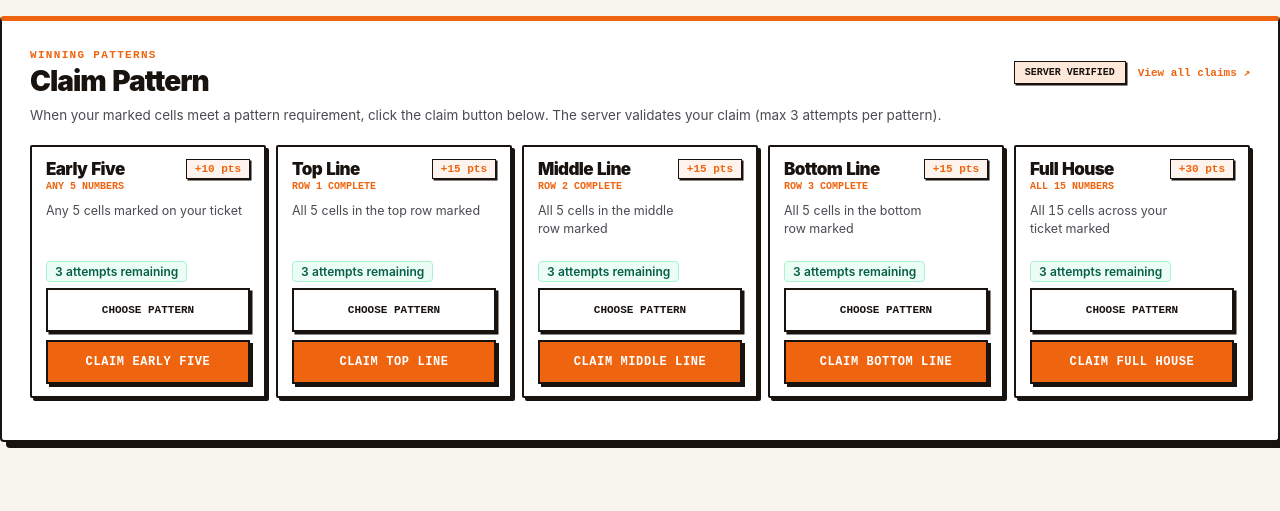
Test: participant claims › submits Middle Line directly
Click the button "Claim Middle Line". click: (640, 362)
box: [538,340,742,384]
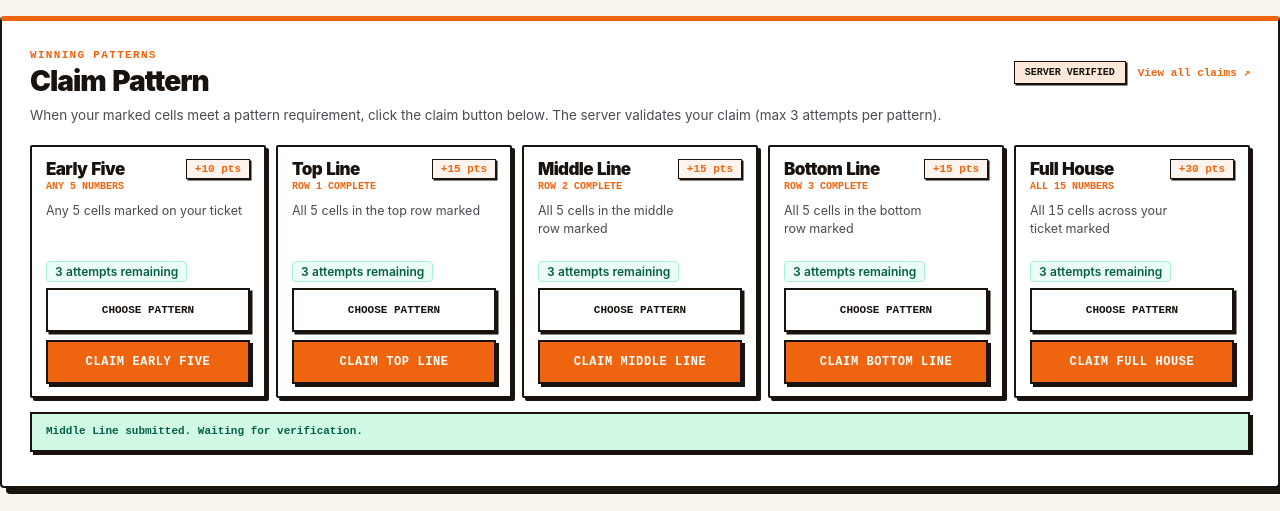
expect the message reads "Middle Line submitted. Waiting for verification.": met, box [46,426,363,438]
